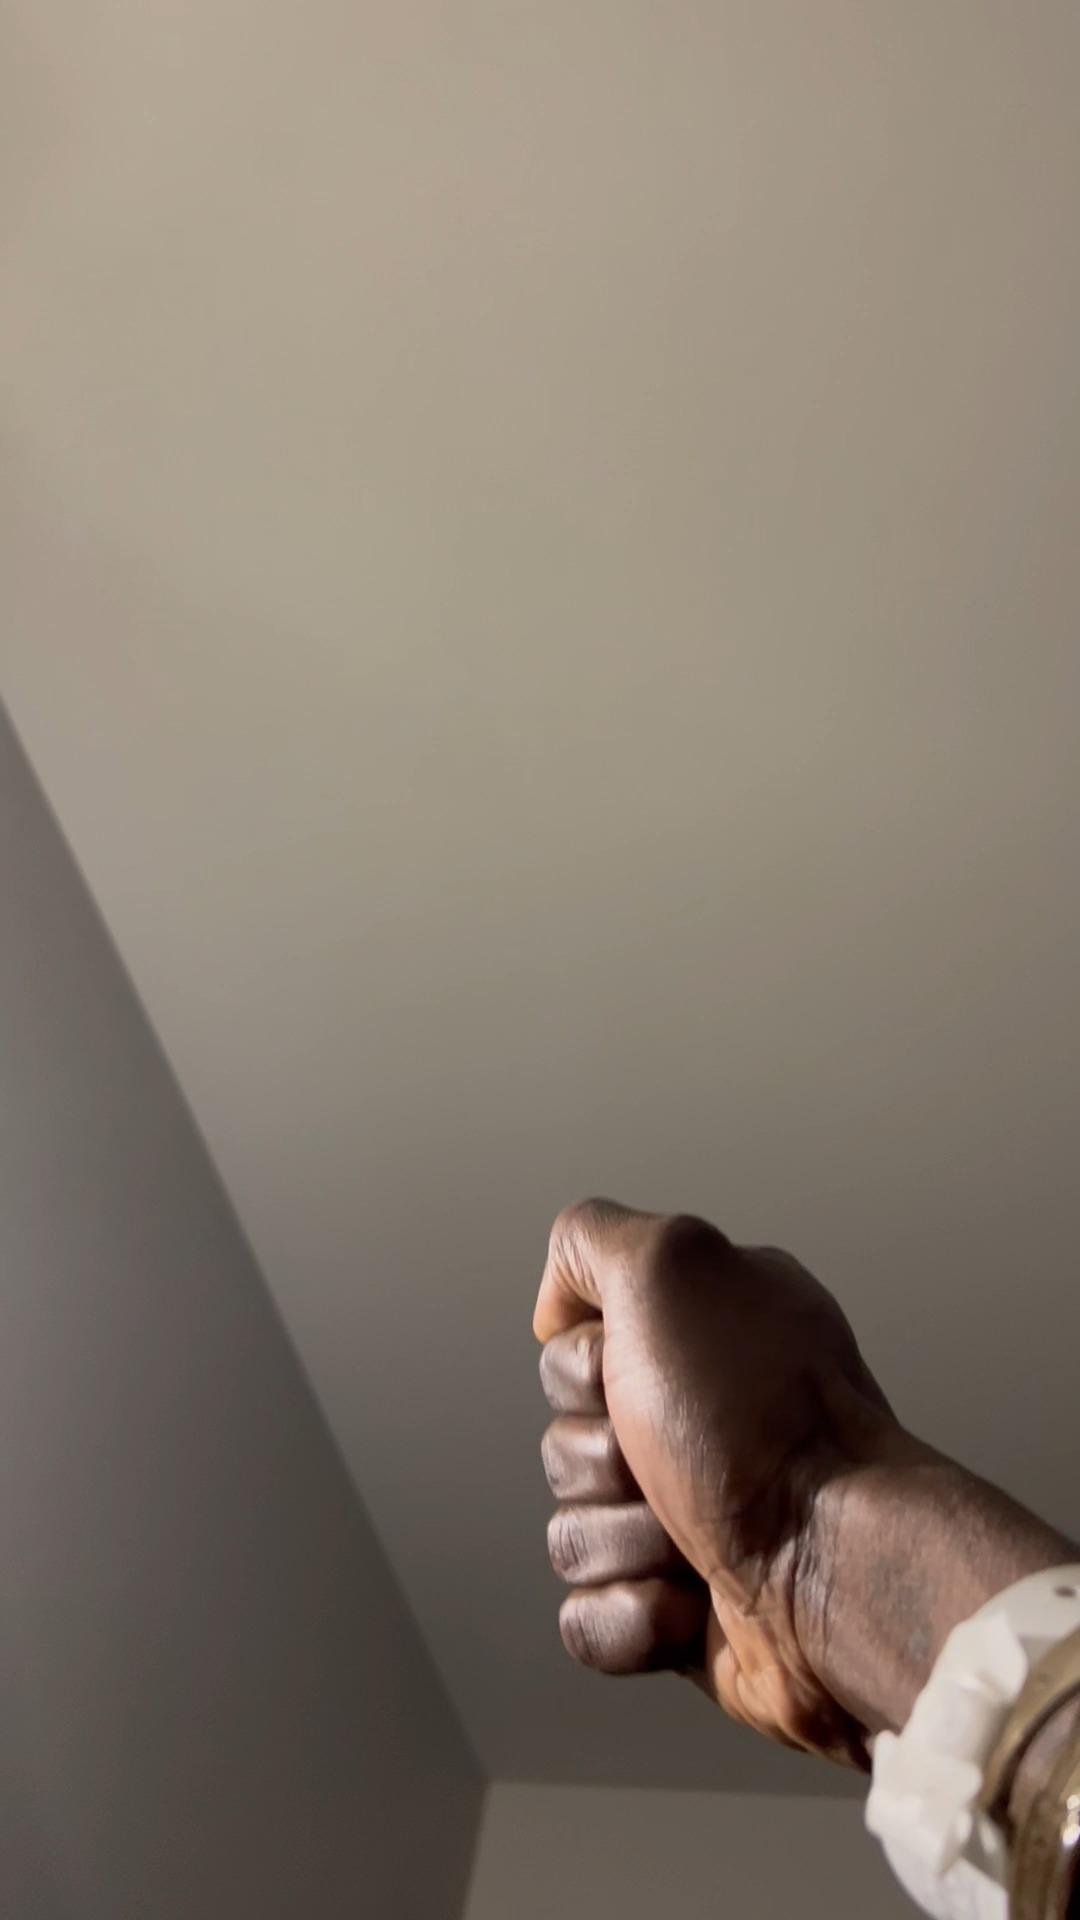Rock: (520, 1193, 910, 1746)
